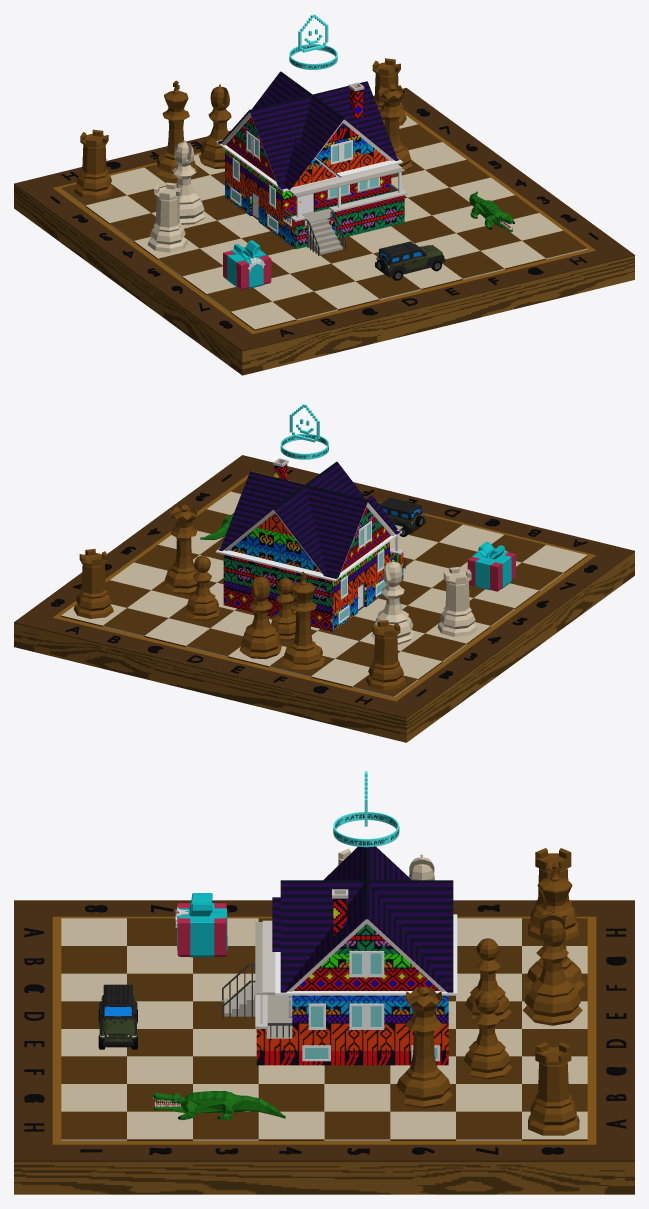
3 renders of one model, top to bottom at view 1: azimuth 30°, elevation 25°; view 2: azimuth 150°, elevation 25°; view 3: azimuth 270°, elevation 25°, orthographic. The views are drawn at different scales.
Visible parts, largest first — view 1: Cube.002, Cube.966, OBJRANDOM_GIANT_PRESENT, VEHICLES_JEEP, TYPE_PREMIUM, ANIMAL_COCODRILO; view 2: Cube.002, Cube.966, OBJRANDOM_GIANT_PRESENT, VEHICLES_JEEP, TYPE_PREMIUM; view 3: Cube.002, Cube.966, OBJRANDOM_GIANT_PRESENT, ANIMAL_COCODRILO, VEHICLES_JEEP, TYPE_PREMIUM.
Part boxes in pixels (x1,y1,x2,y2): Cube.002: (14,58,634,375); Cube.966: (216,71,407,255); OBJRANDOM_GIANT_PRESENT: (223,240,271,290); VEHICLES_JEEP: (375,241,445,280); TYPE_PREMIUM: (289,14,337,69); ANIMAL_COCODRILO: (469,191,514,232); Cube.002: (14,455,634,742); Cube.966: (215,458,405,631); OBJRANDOM_GIANT_PRESENT: (467,541,515,591); VEHICLES_JEEP: (378,497,425,536); TYPE_PREMIUM: (280,404,328,459); Cube.002: (14,848,634,1194); Cube.966: (222,846,457,1065); OBJRANDOM_GIANT_PRESENT: (175,893,227,957); ANIMAL_COCODRILO: (152,1091,285,1119); VEHICLES_JEEP: (98,984,137,1049); TYPE_PREMIUM: (333,771,399,847).
Size of the model in its own units: 3981 by 2201 by 4012.
Materials: 41 (8 with a texture image).
